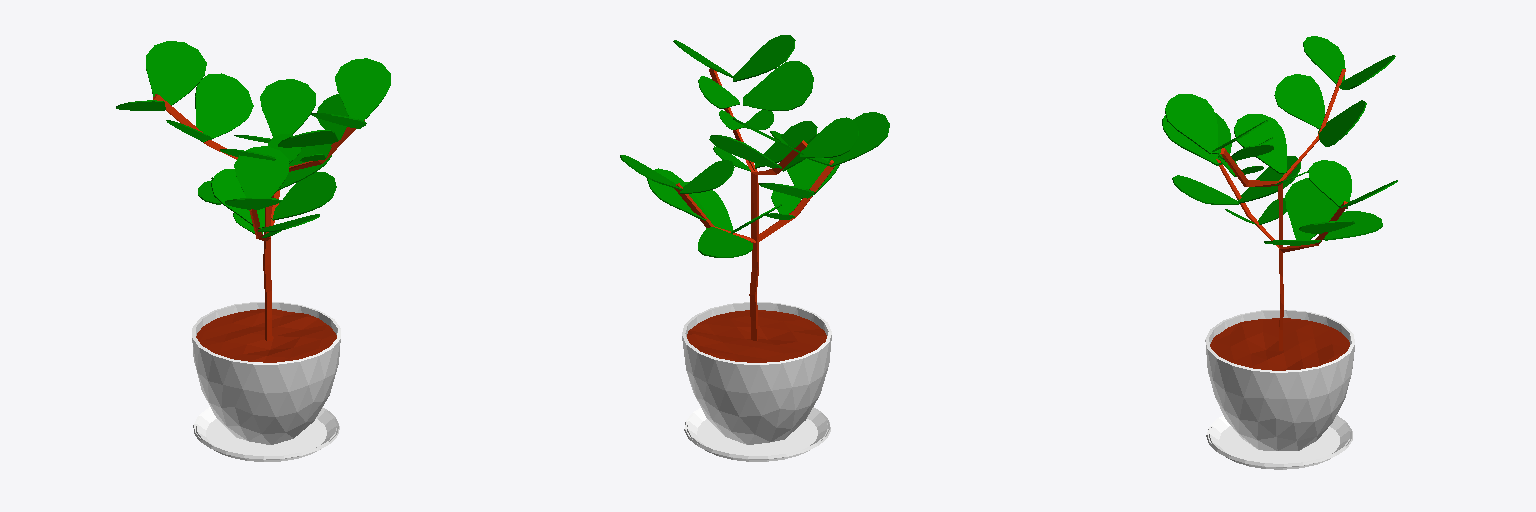
The model's file is Home_Plant.obj.
3 views of the same model, side by side, from view 1: azimuth 30°, elevation 25°; view 2: azimuth 150°, elevation 25°; view 3: azimuth 270°, elevation 25° (orthographic).
Visible parts, largest first — view 1: 1_Circle.001; view 2: 1_Circle.001; view 3: 1_Circle.001.
Boxes of the visible parts, <box> form: 1_Circle.001: <box>116,41,390,461</box>; 1_Circle.001: <box>620,35,889,461</box>; 1_Circle.001: <box>1162,36,1397,469</box>.
Size of the model in its own units: 1.21 by 1.85 by 1.09.